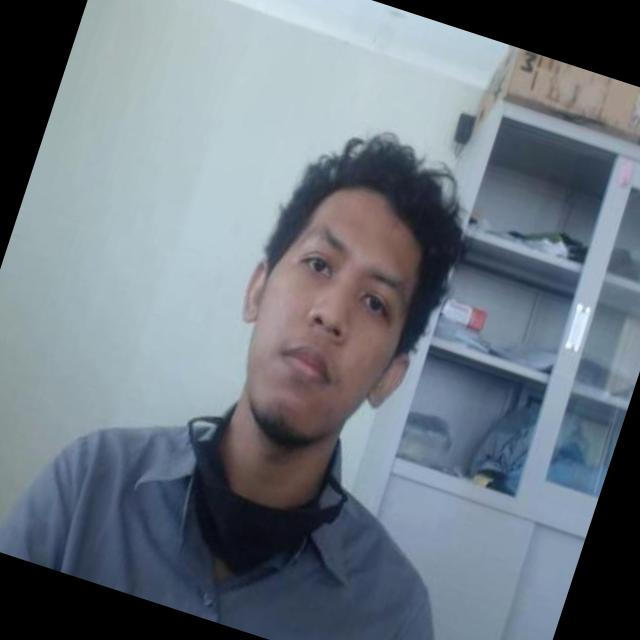bareface: (225, 189, 437, 462)
